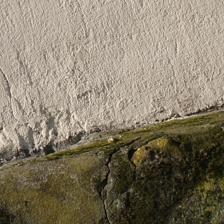Crack: (17, 69, 129, 152), (9, 184, 91, 224)
